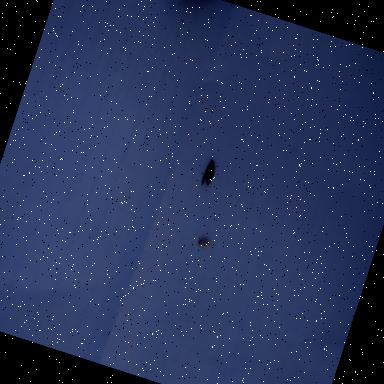pbw: (199, 158, 218, 188), (195, 234, 214, 252)
